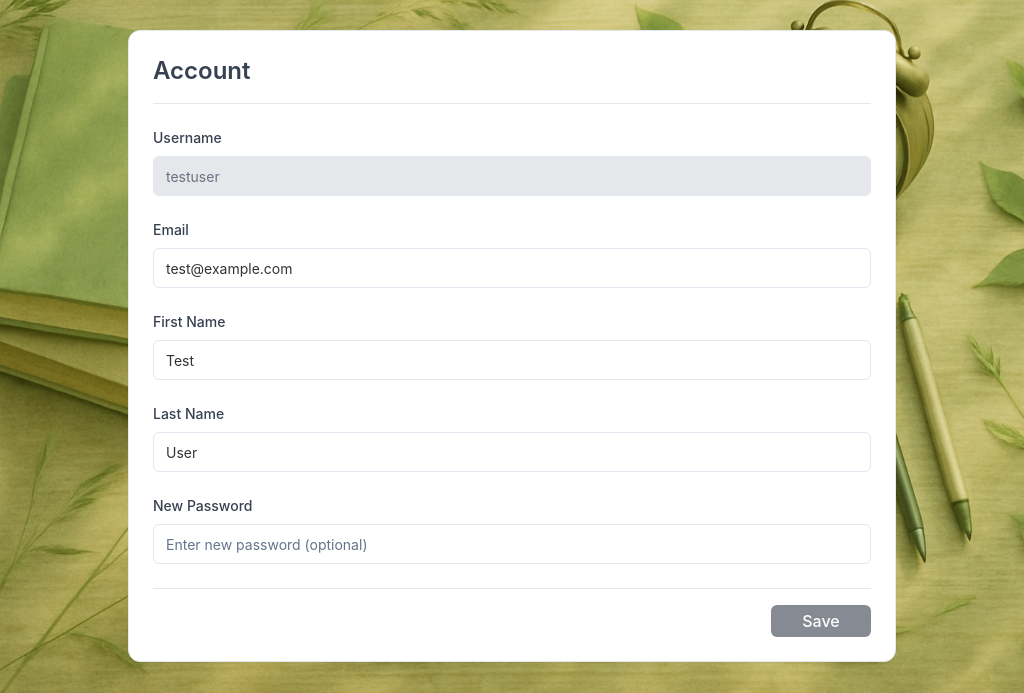
Test case: UserSettingsPage › submits form with updated data and shows success message
This screenshot has width=1024, height=693.
Replace the text in the field labelled "First Name" with "Updated" at (512, 360), box [153,340,871,380]
Type "newpassword123" into the password field labelled "New Password" at (512, 544), box [153,524,871,564]
(page scrolled)
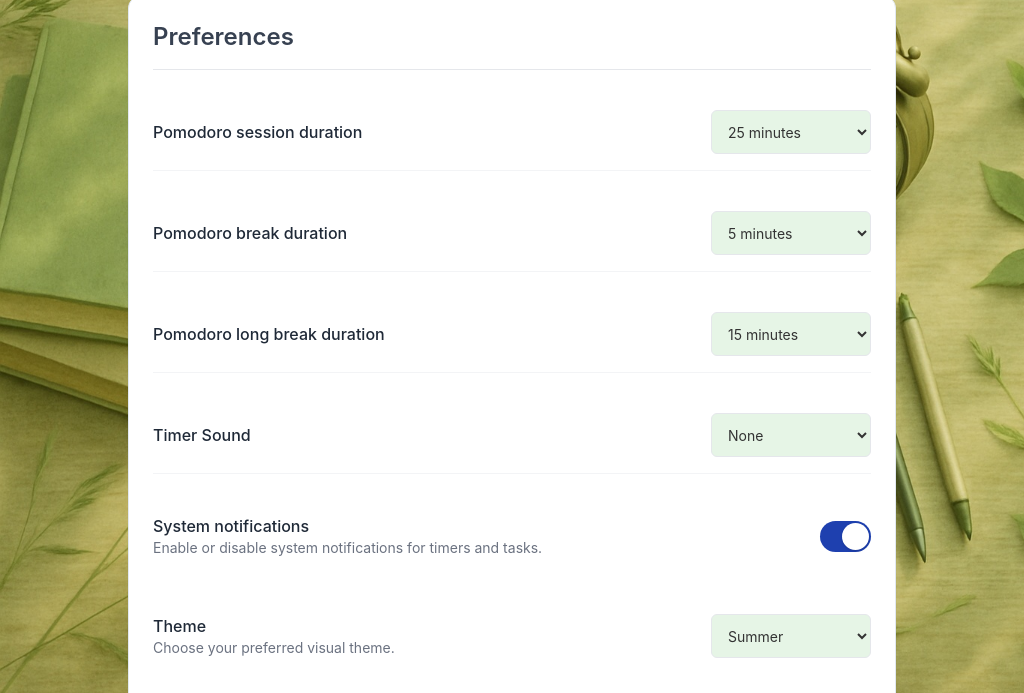
Select "20 minutes" in the dropdown named "Pomodoro long break duration" at (791, 334), box [711,312,871,356]
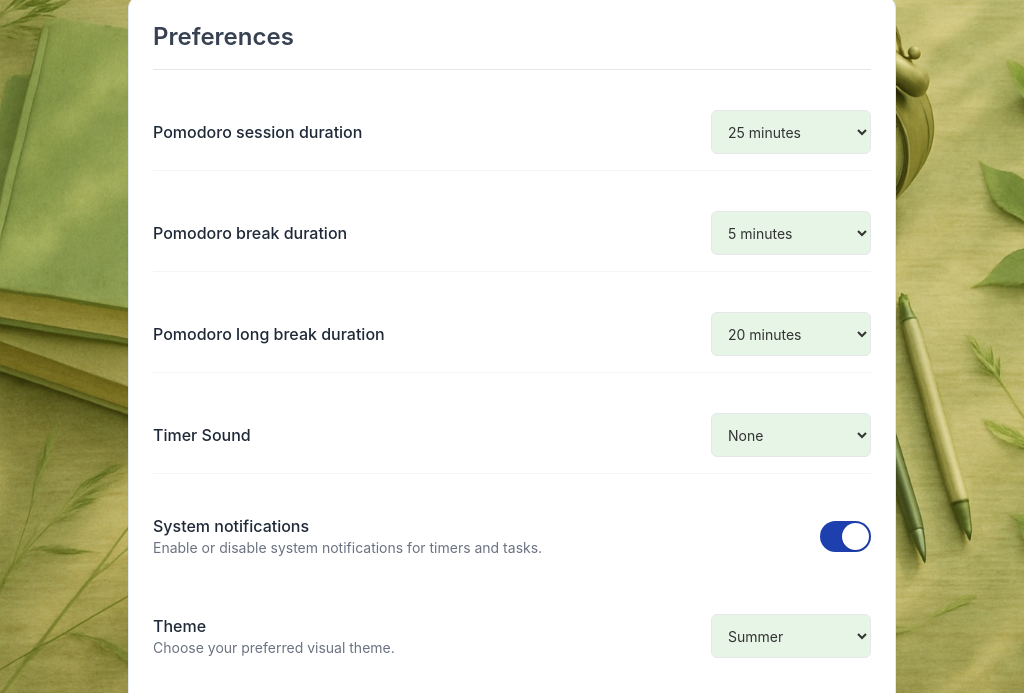
Select "45 minutes" in the dropdown named "Pomodoro working interval" at (791, 132), box [711,110,871,154]
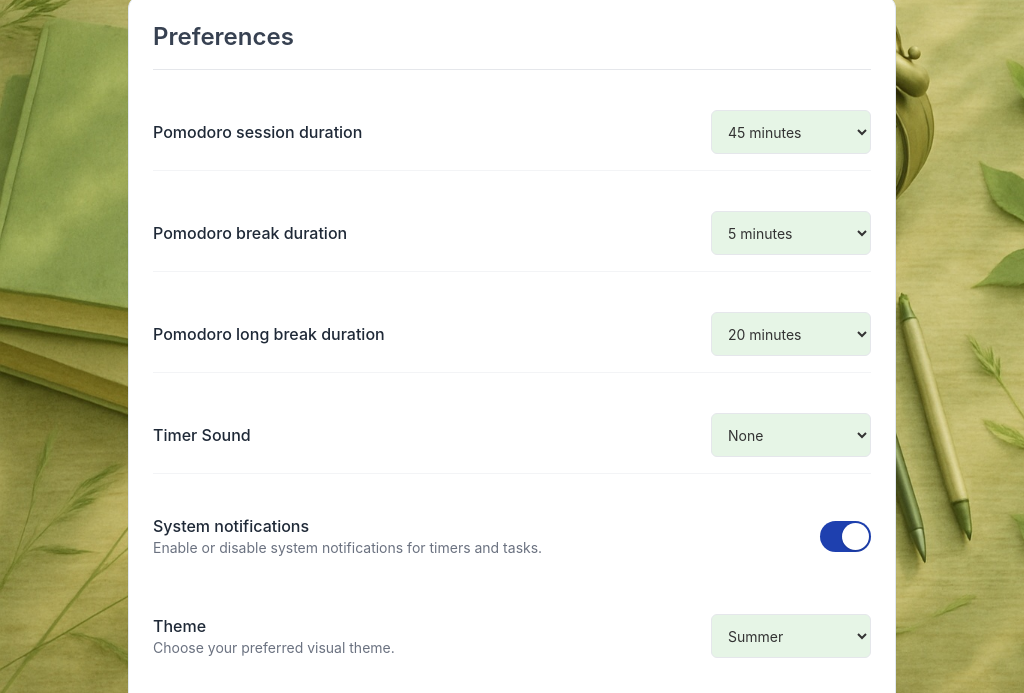
Select "5 minutes" in the dropdown named "Pomodoro break duration" at (791, 233), box [711,211,871,255]
Select "Ding" in the dropdown named "Timer Sound" at (791, 435), box [711,413,871,457]
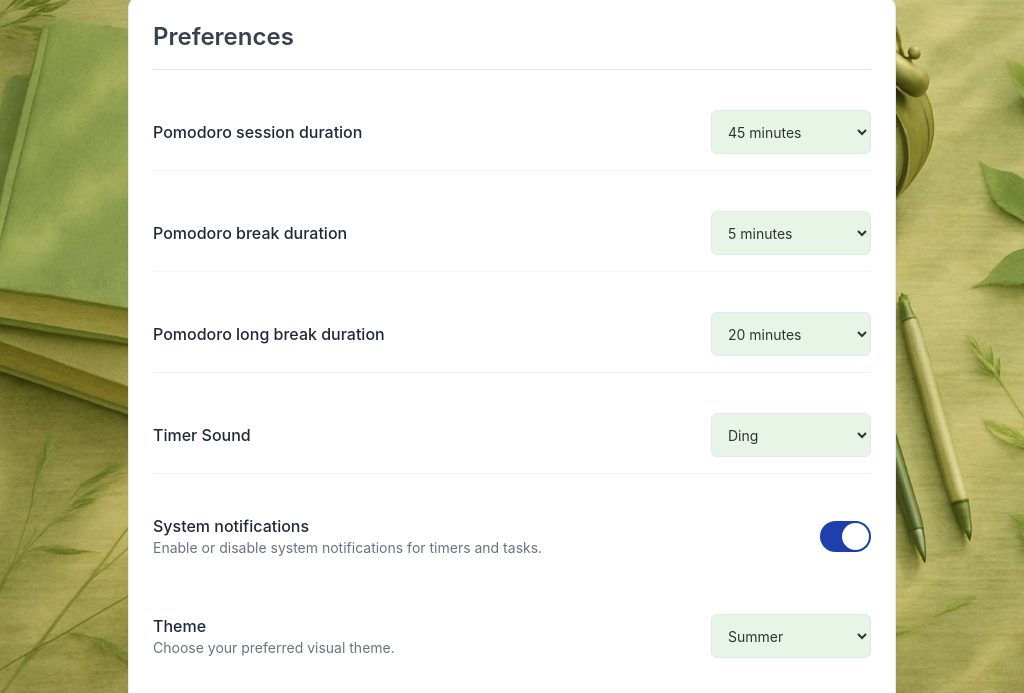
Click the checkbox named "System notifications" at (846, 536), box [820,520,871,552]
(page scrolled)
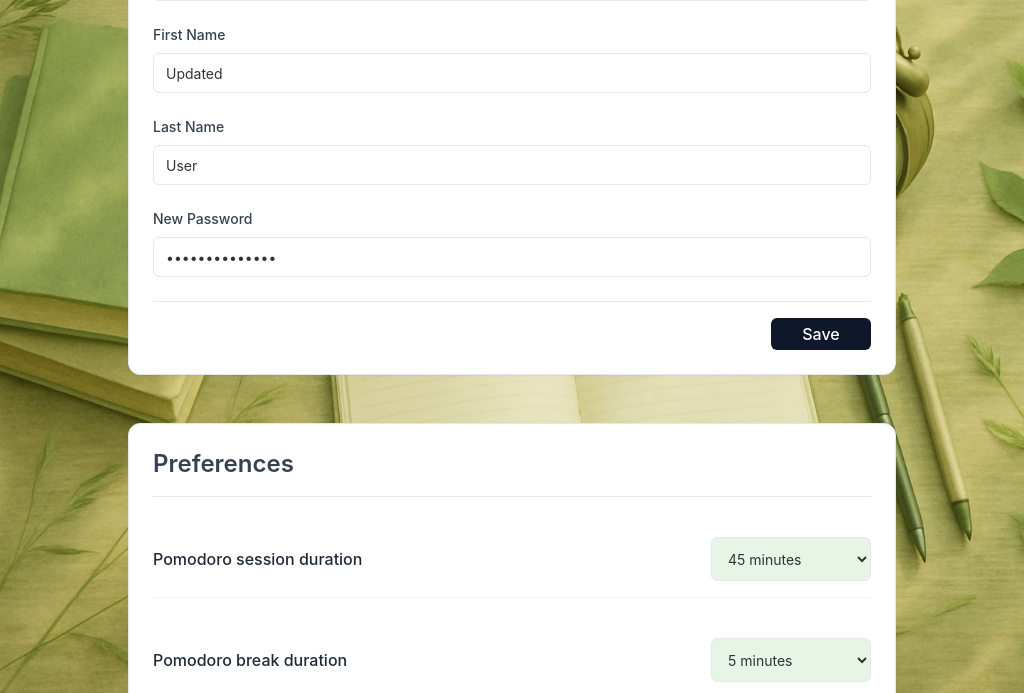
Click the button "Save" at (821, 334), box [771,318,871,350]
(page scrolled)
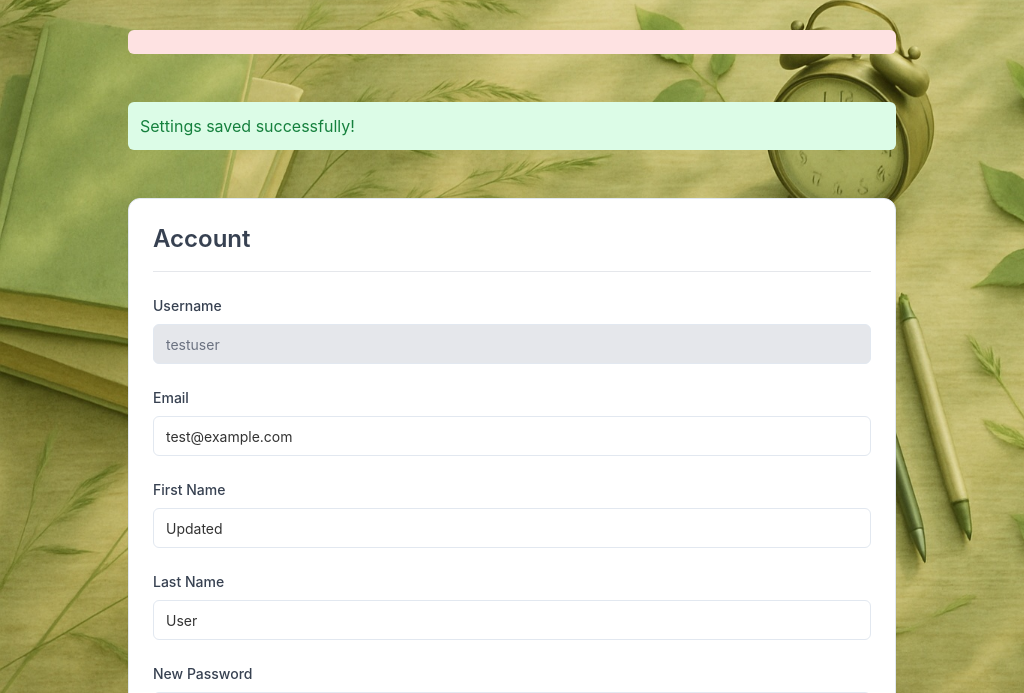
Now the text "Settings saved successfully!" is shown, box [128,102,896,150]
